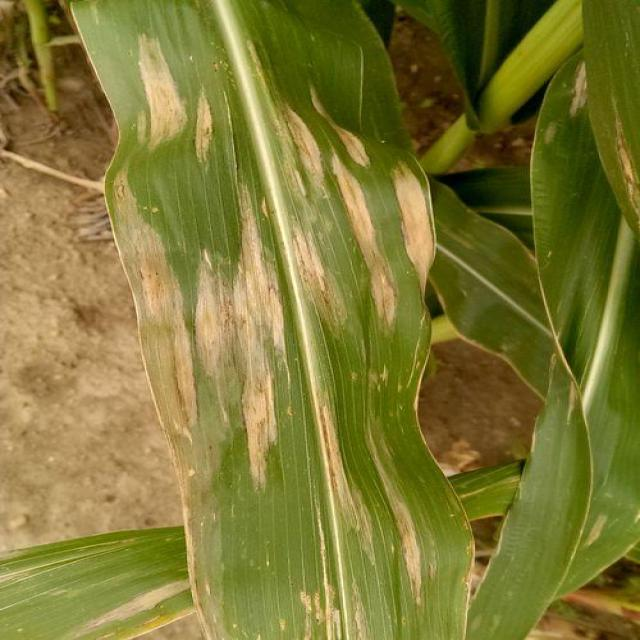blight: (171, 41, 412, 408)
